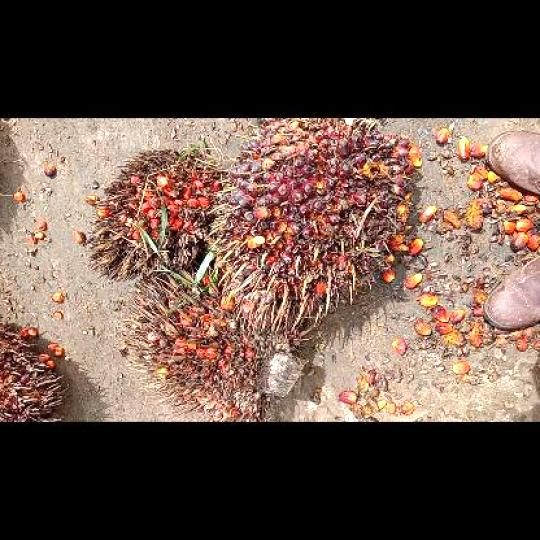masak: (207, 119, 416, 335)
terlalu masak: (123, 268, 308, 420), (83, 146, 226, 288)
